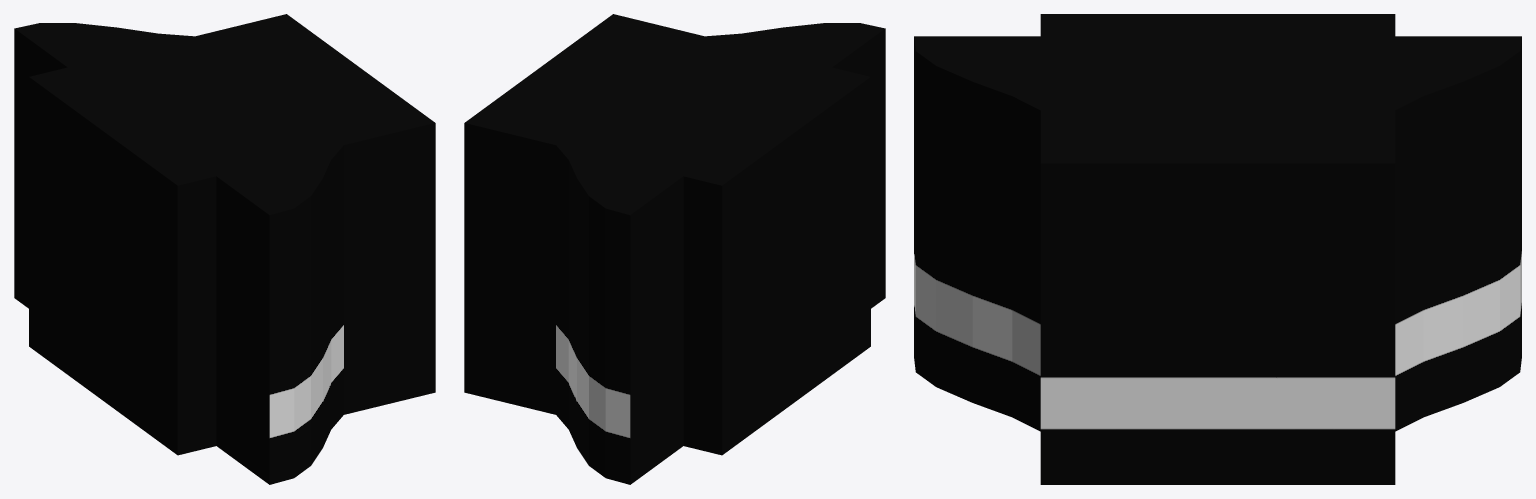
The model's file is dep1.fbx.
3 renders of one model, left to right at view 1: azimuth 30°, elevation 25°; view 2: azimuth 150°, elevation 25°; view 3: azimuth 270°, elevation 25°, orthographic. The views are drawn at different scales.
Parts seen in each view (by area): view 1: Куб, Cube; view 2: Куб, Cube; view 3: Куб, Cube.
Part boxes in pixels (x1,y1,x2,y2): Куб: (29,14,435,455); Cube: (14,23,359,484); Куб: (464,14,870,455); Cube: (540,23,885,484); Куб: (1040,14,1395,484); Cube: (914,36,1521,431).
Bounding box in the file's own units: 200 × 200 × 343.
